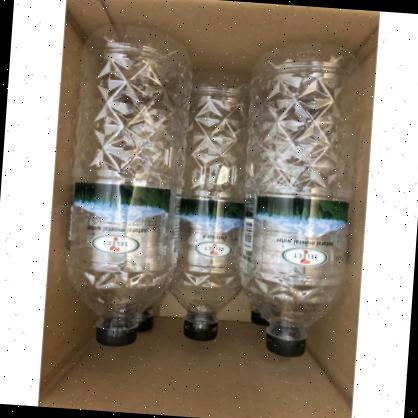bottle: (58, 25, 191, 350), (233, 38, 362, 360), (169, 55, 253, 345)
cap: (264, 329, 308, 357), (96, 322, 138, 346), (181, 316, 217, 342)
label: (238, 193, 350, 286), (67, 181, 176, 271), (176, 196, 242, 276)
